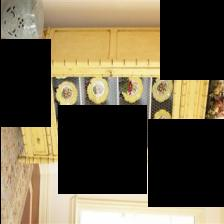yellow: (0, 24, 218, 168)
